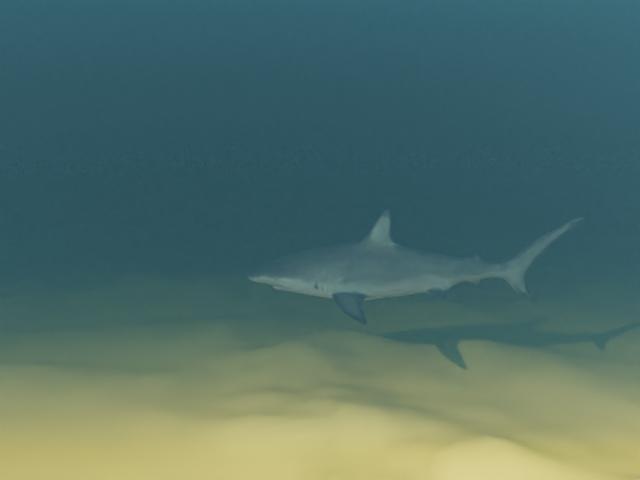Carribean Shark.001: (247, 209, 584, 325)
